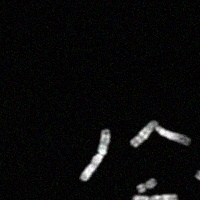chromosome: (127, 118, 193, 149), (78, 126, 111, 181), (135, 178, 159, 193), (131, 193, 180, 200), (192, 167, 200, 200)
